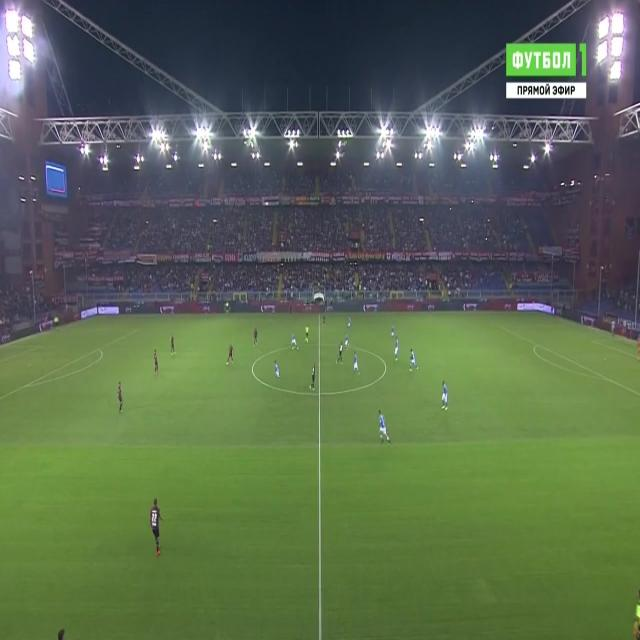Player: (148, 496, 164, 562), (378, 406, 391, 444), (407, 346, 420, 374), (116, 380, 125, 417), (441, 378, 450, 413), (288, 329, 301, 353), (308, 363, 318, 394), (350, 349, 360, 379), (335, 340, 344, 369), (250, 324, 260, 350), (152, 344, 160, 376), (168, 331, 177, 358), (393, 335, 401, 364), (226, 342, 234, 368), (274, 357, 282, 382), (390, 322, 398, 340), (346, 315, 352, 330)
Referee: (303, 324, 311, 346)
